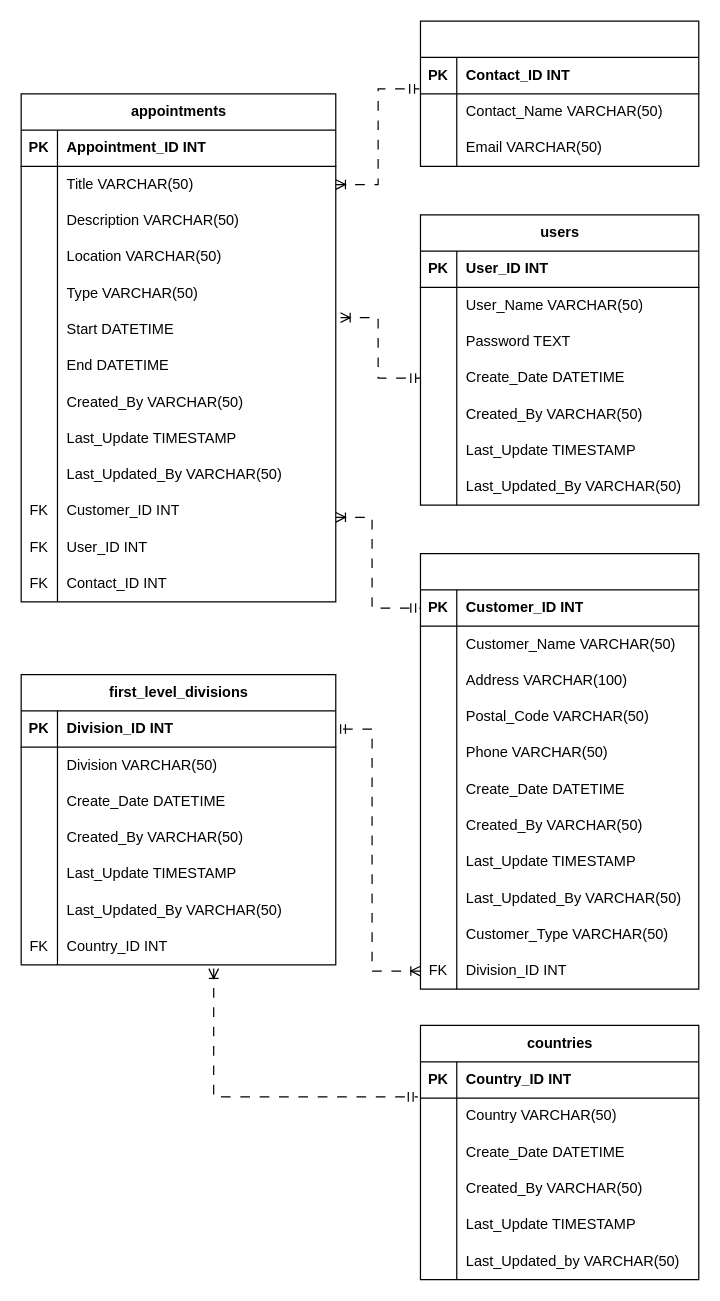
Some shapes in this 720 by 1301 pixel diagram are drawn without their labels. Here are the shapes that lost their labels. From the top down, the box of each, then its label:
(419, 20, 699, 166): contacts
(419, 552, 699, 989): customers
